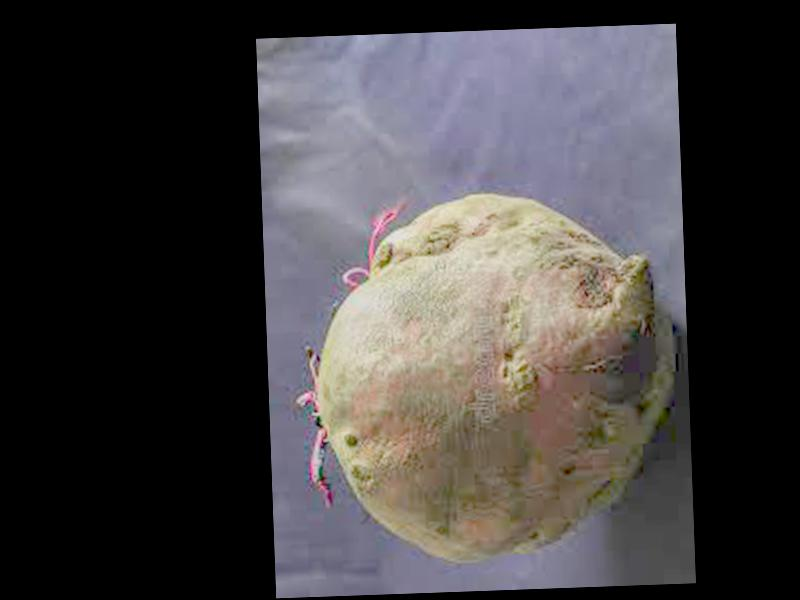Beet: (293, 187, 678, 565)
